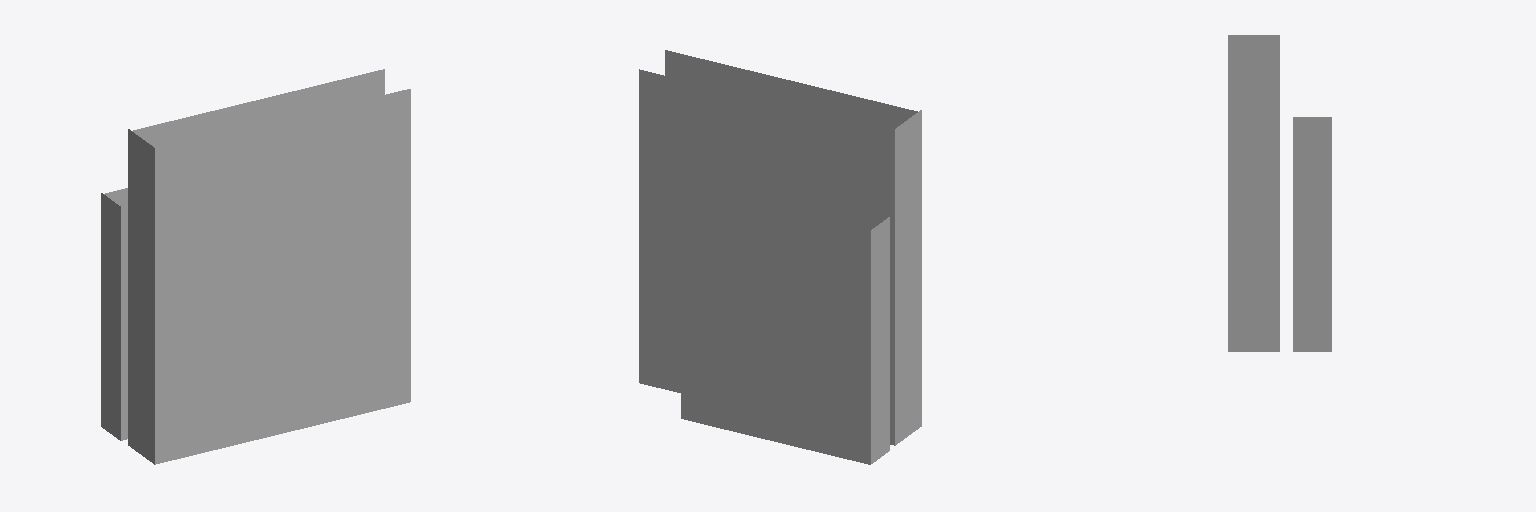
File: books__7.obj
The picture shows the model from 3 angles: view 1: azimuth 30°, elevation 25°; view 2: azimuth 150°, elevation 25°; view 3: azimuth 270°, elevation 25°; orthographic projection.
Visible parts, largest first — view 1: grp7; view 2: grp7; view 3: grp7.
Boxes of the visible parts, box(x1,y1,x2,y2) form: grp7: box(101, 69, 410, 464); grp7: box(639, 50, 921, 464); grp7: box(1228, 35, 1331, 351).
Size of the model in its own units: 171 by 201 by 60.35.